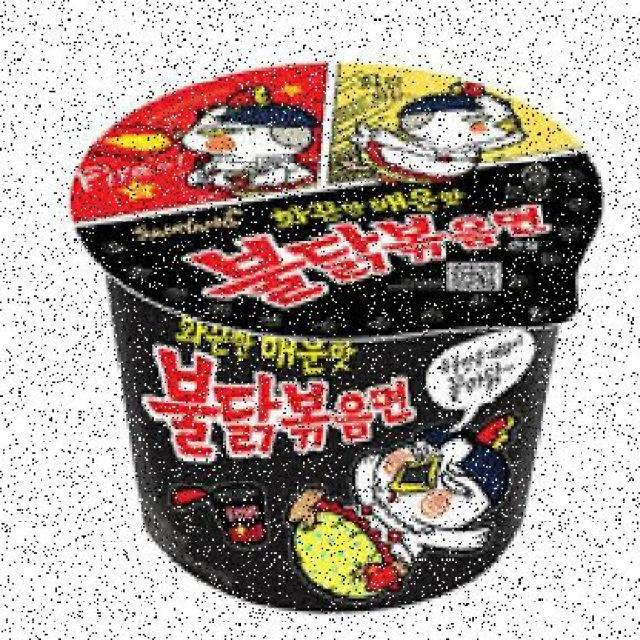Miscellaneous: (62, 56, 608, 610)
